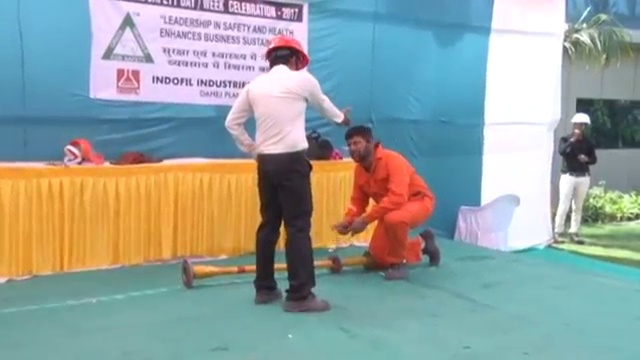helmet: (261, 33, 312, 68), (570, 111, 592, 128)
helmet_off: (344, 125, 375, 164)
helmet_on: (260, 34, 312, 77), (569, 110, 593, 141)
person: (229, 35, 350, 316), (337, 124, 440, 272), (560, 110, 599, 246)
